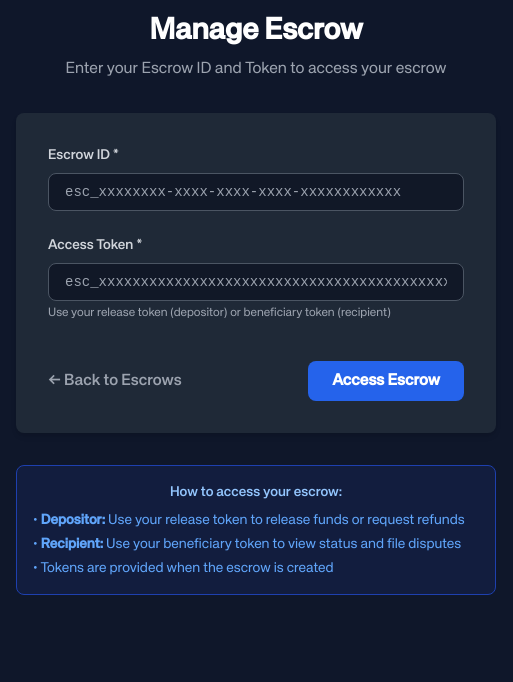
Scenario: EscrowManagePage › should show error for invalid credentials
Type "esc_123" into the field labelled "Escrow ID *" at (256, 192), box x1=48 y1=173 x2=464 y2=211
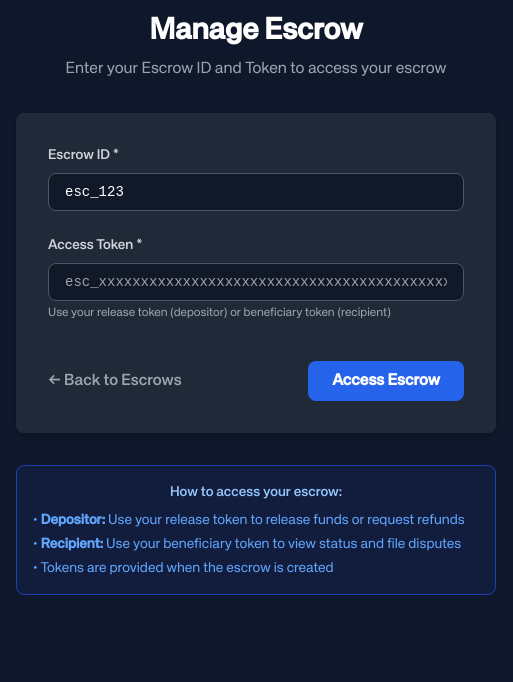
Replace the text in the field labelled "Access Token *" with "invalid_token" at (256, 282), box x1=48 y1=263 x2=464 y2=301
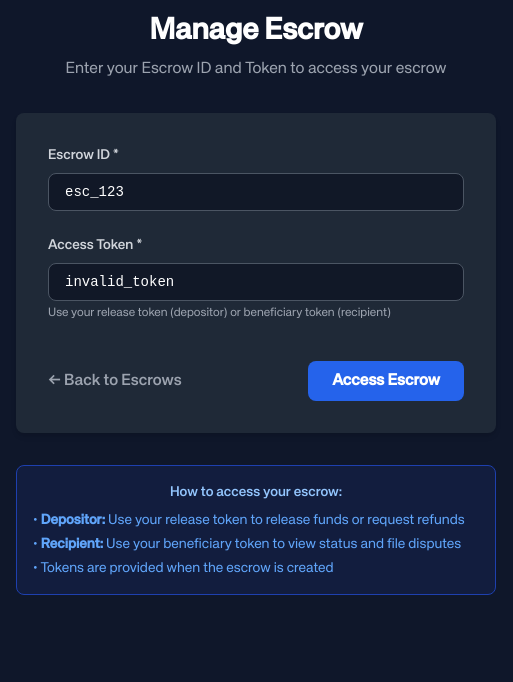
Click the button "Access Escrow" at (386, 381), box x1=308 y1=361 x2=464 y2=401
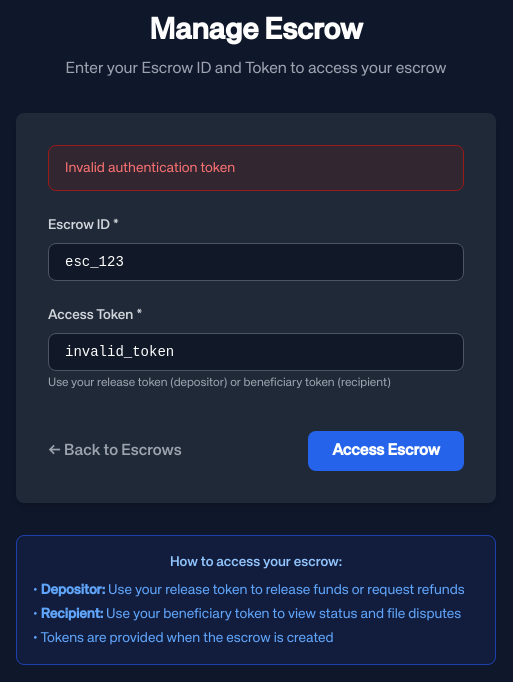
Check: the text "Invalid authentication token" is shown, box x1=48 y1=145 x2=464 y2=191
